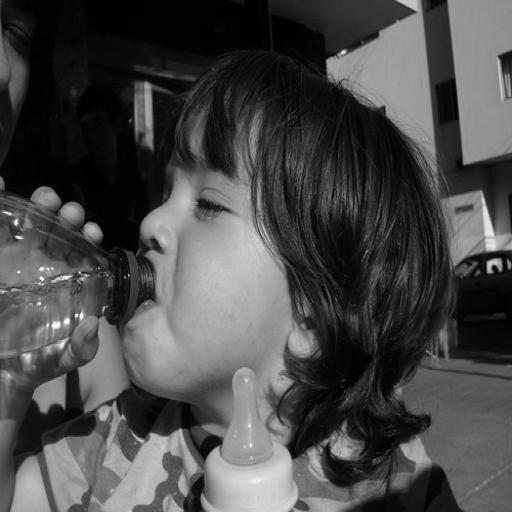bottle: (0, 183, 154, 360), (194, 366, 302, 511)
car: (446, 246, 511, 319)
person: (0, 45, 463, 511), (70, 79, 150, 251)
